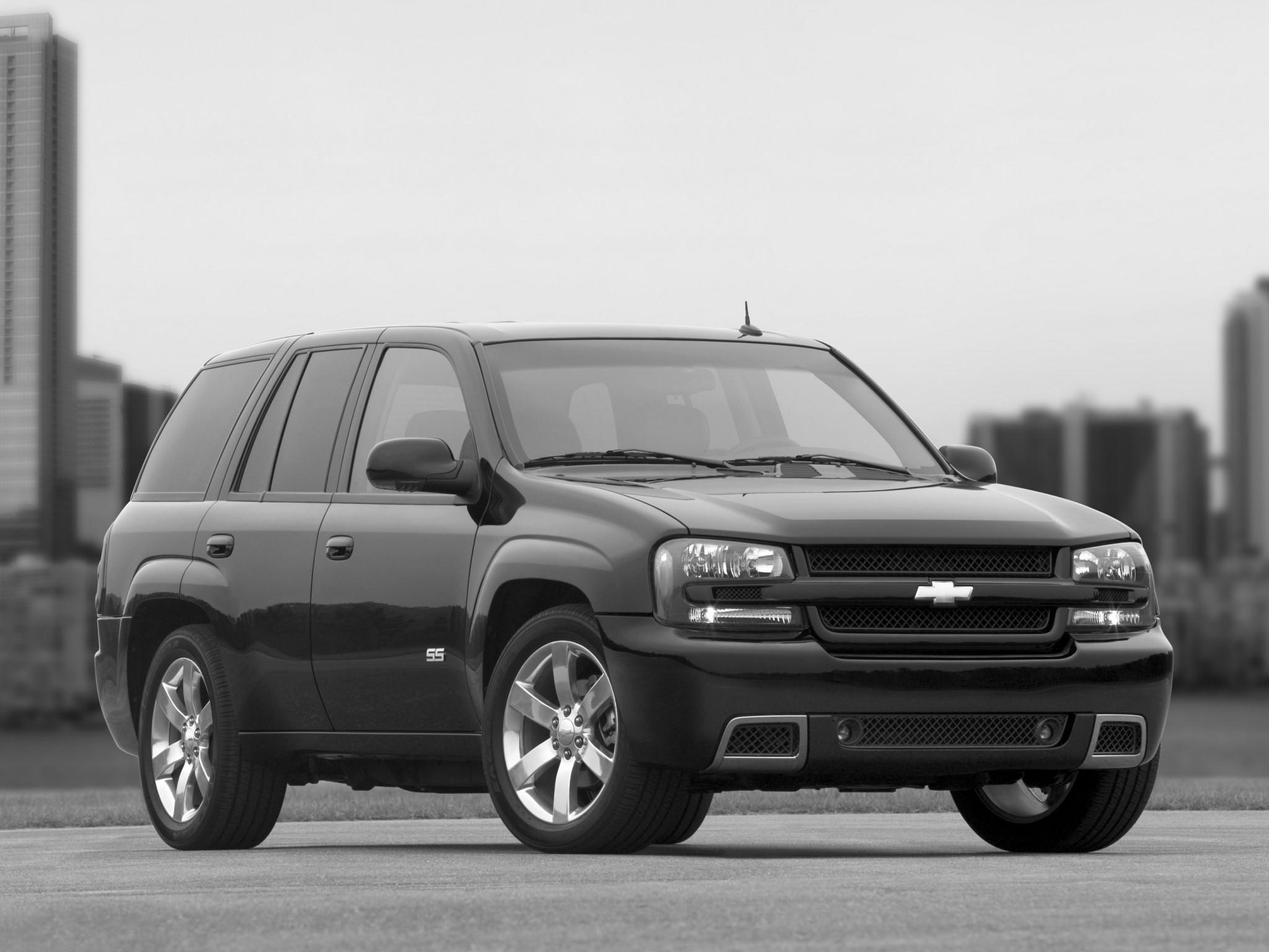car: (86, 296, 1181, 860)
